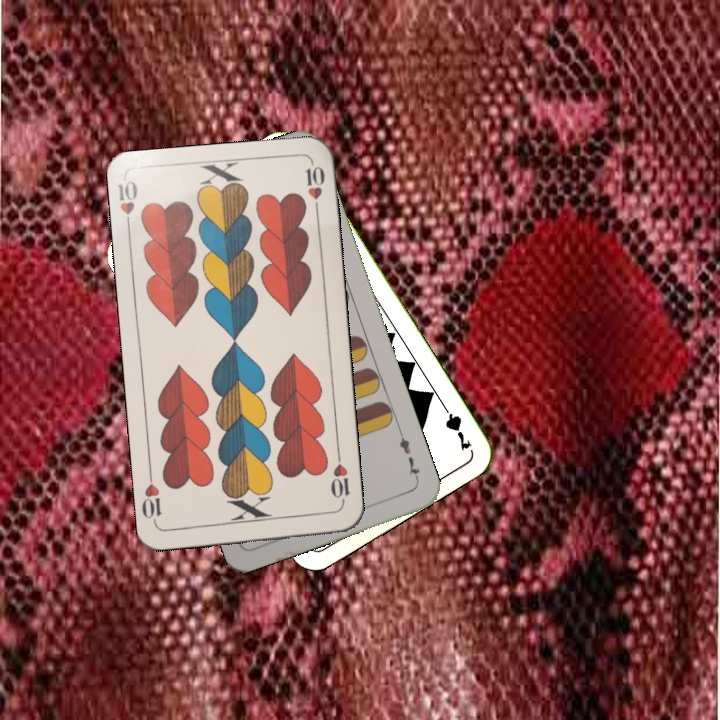E7: (395, 427, 422, 485)
G7: (436, 398, 474, 454)
H10: (326, 449, 353, 509), (114, 176, 140, 235)
